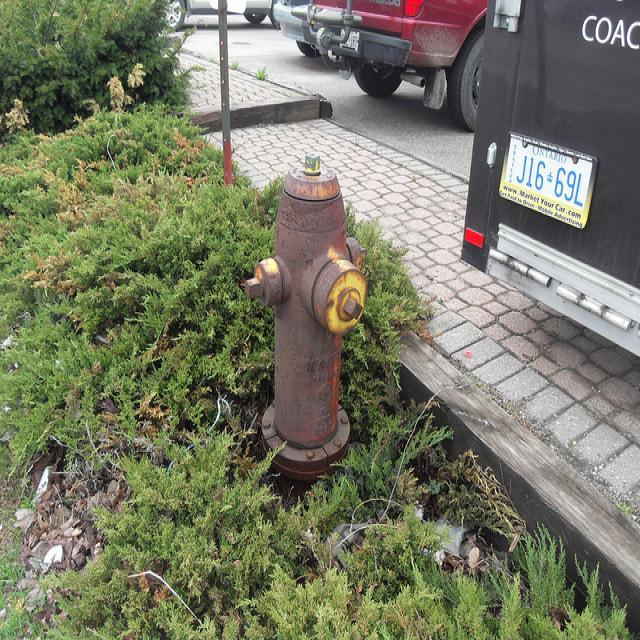fire_hydrant: (243, 153, 370, 486)
